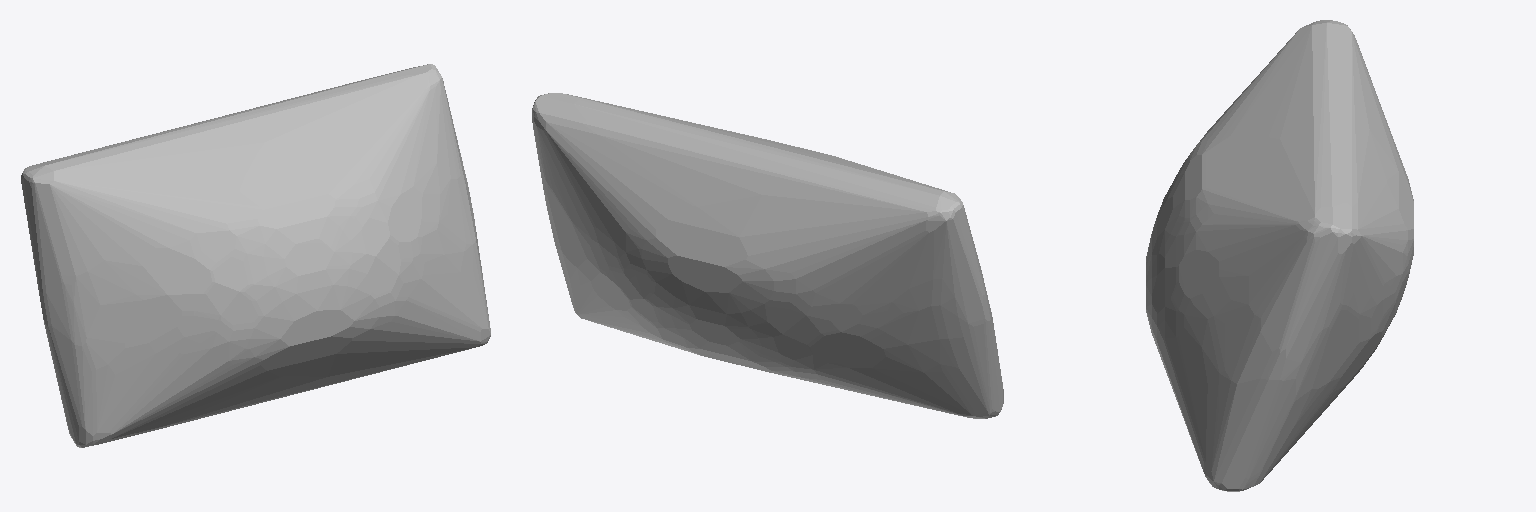
URDF robot description (root):
<?xml version="1.0"?>
<robot name="root">
  <link name="base_link">
    <visual>
      <origin xyz="0 0 0" rpy="0 0 0" />
      <geometry>
        <mesh filename="../meshes/unidex_core_pillow-e973f4a81707004ef2197da8dec8488d_006.obj" scale="1.0000E+00 1.0000E+00 1.0000E+00" />
      </geometry>
      <material name="">
        <color rgba="7.50E-01 7.50E-01 7.50E-01 1" />
      </material>
    </visual>
    <collision>
      <origin xyz="0 0 0" rpy="0 0 0" />
      <geometry>
        <mesh filename="../meshes/unidex_core_pillow-e973f4a81707004ef2197da8dec8488d_006.obj" scale="1.0000E+00 1.0000E+00 1.0000E+00" />
      </geometry>
    </collision>
  </link>
</robot>

--- What the picture shows (computed from the rendered views, not written in the file) ---
The picture shows the robot from 3 angles, left to right: view 1: azimuth 30°, elevation 25°; view 2: azimuth 150°, elevation 25°; view 3: azimuth 270°, elevation 25°; orthographic projection.
Model root with 1 links and 0 joints (none), rooted at base_link, posed every joint at zero.
Visible links, largest first — view 1: base_link; view 2: base_link; view 3: base_link.
Link boxes in pixels (left/top/right/bottom): base_link: left=21, top=64, right=490, bottom=447; base_link: left=532, top=93, right=1003, bottom=418; base_link: left=1146, top=20, right=1413, bottom=491.
Size in the robot's own frame: 0.105 by 0.0525 by 0.0593 metres.
1 mesh visuals loaded from 1 distinct referenced files (1 OBJ).
